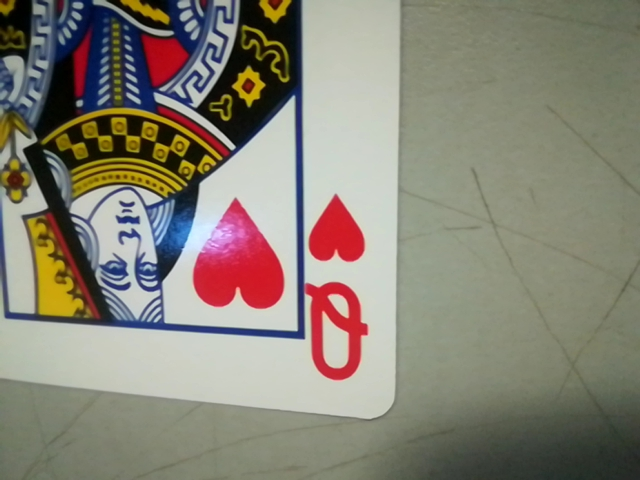hx q: (297, 190, 385, 390)
